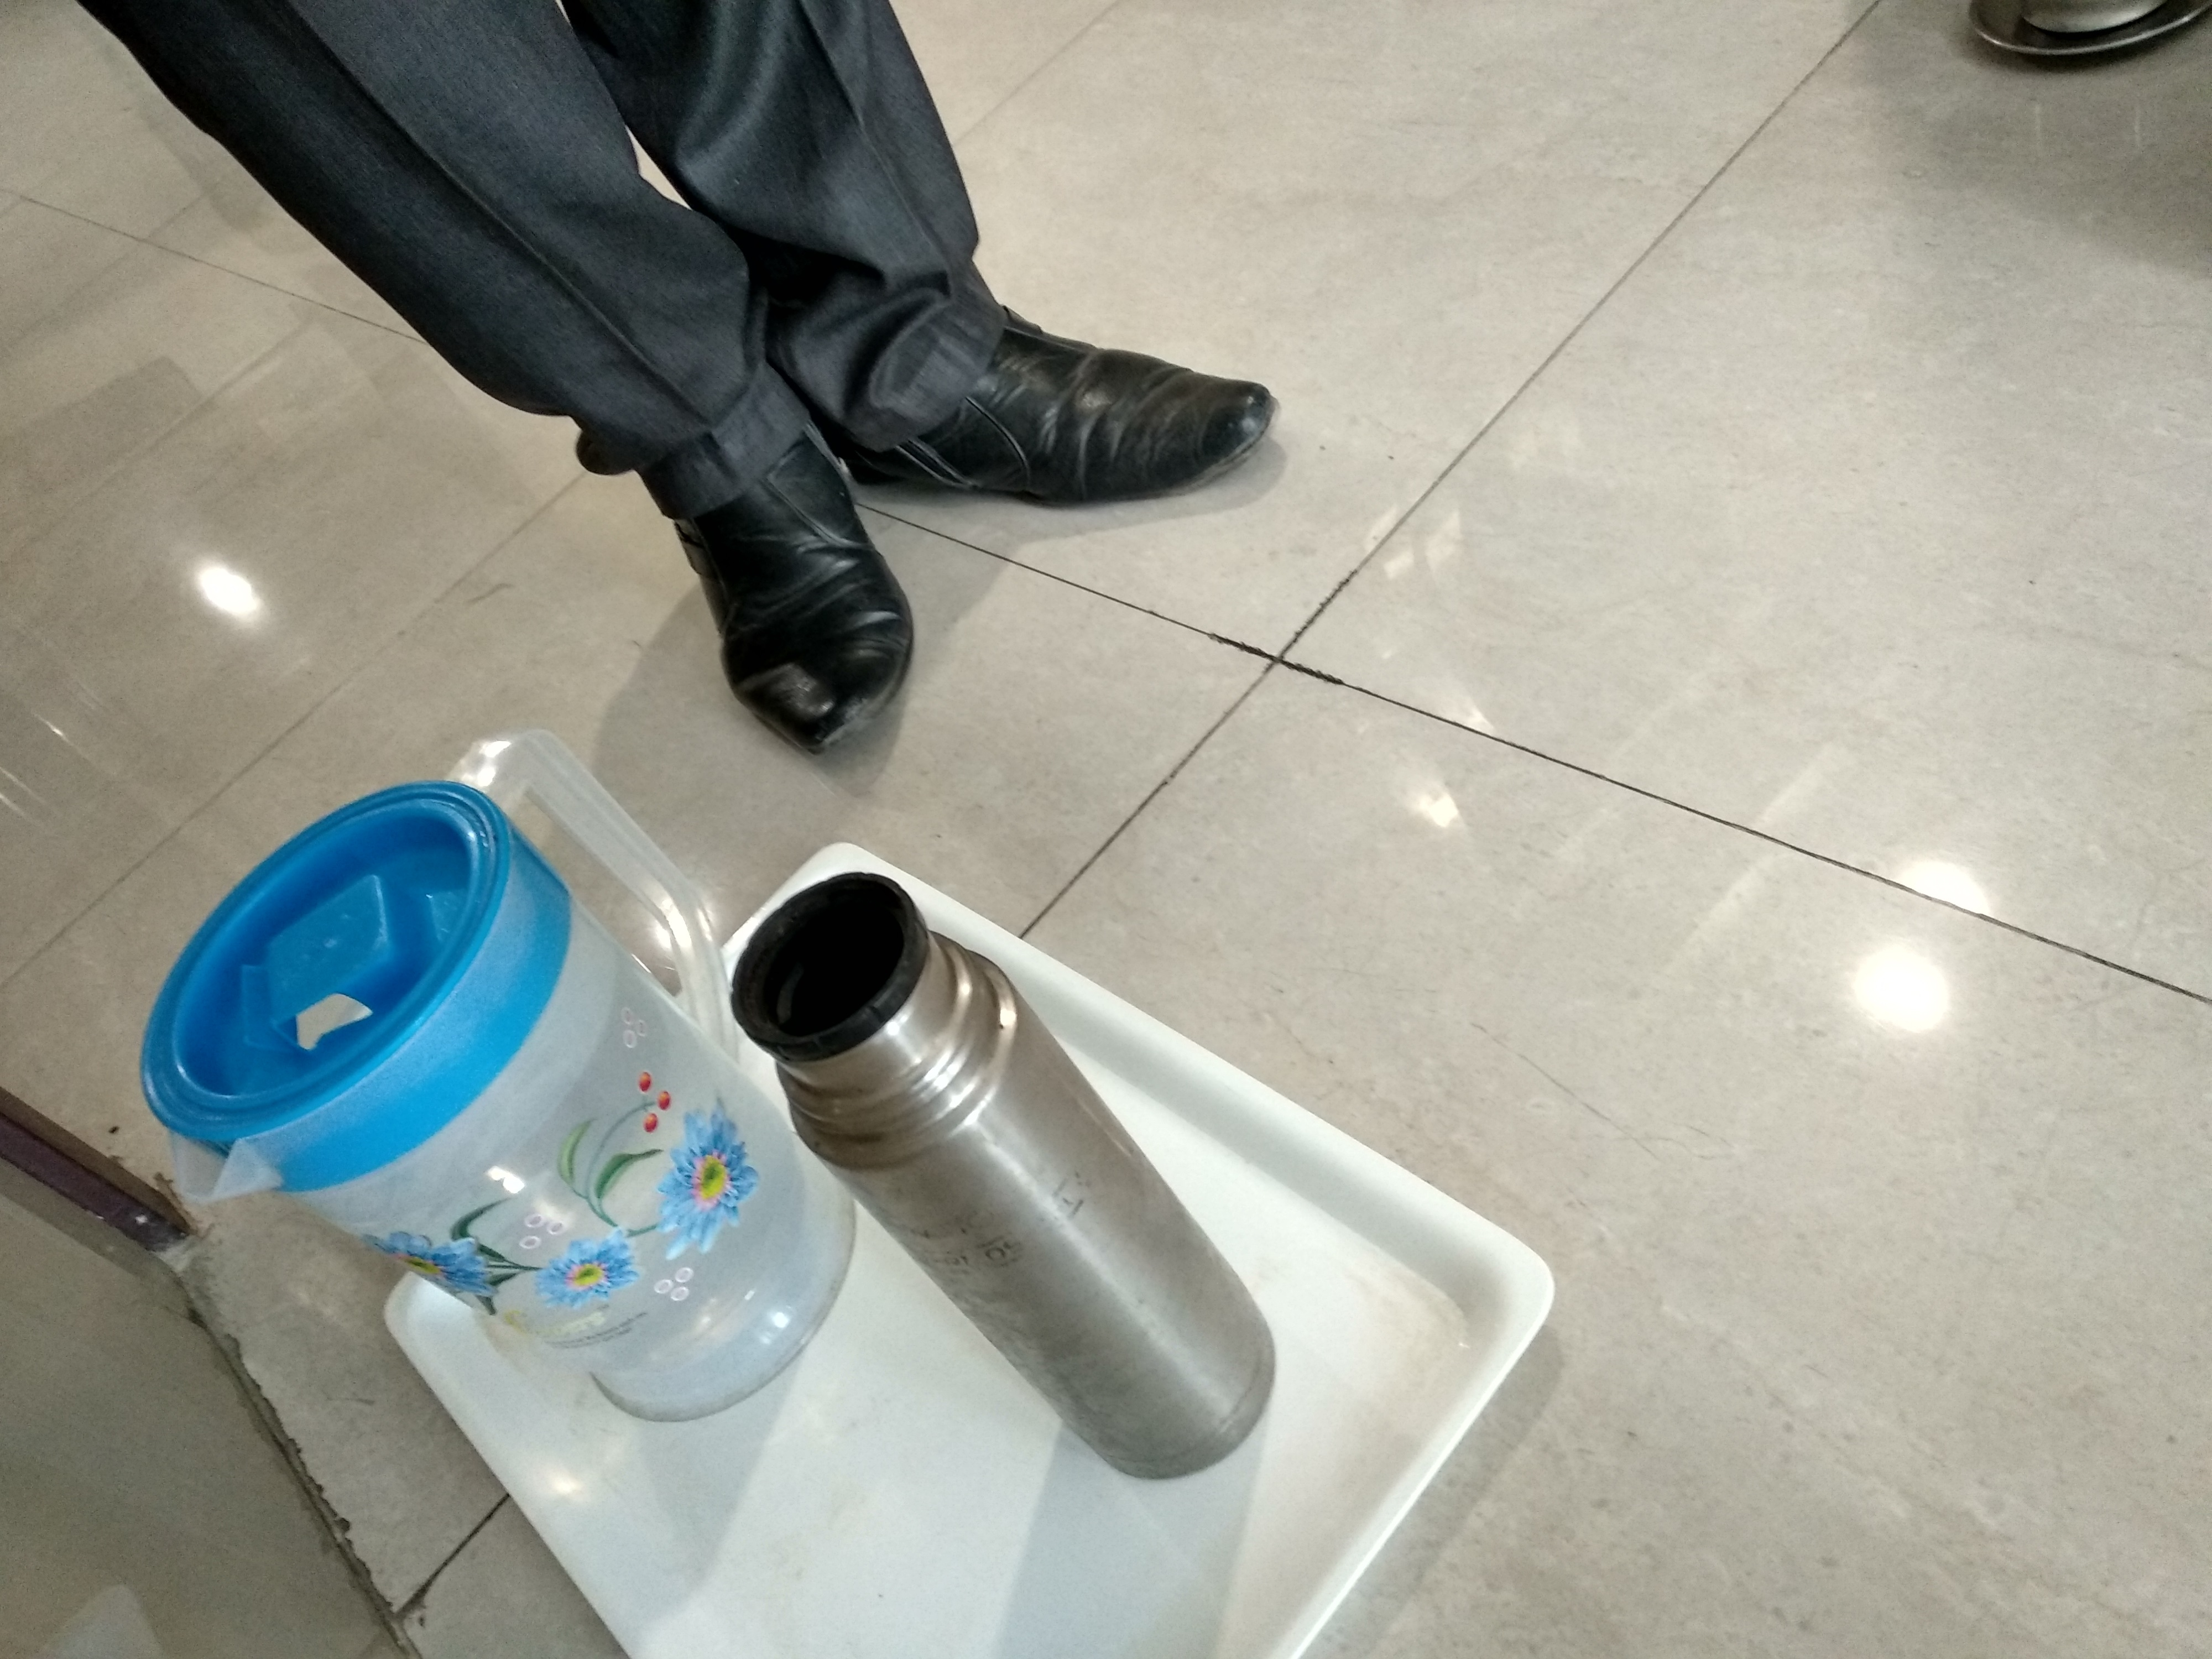FLASK: (716, 870, 1289, 1493)
JUG: (85, 697, 737, 1420)
